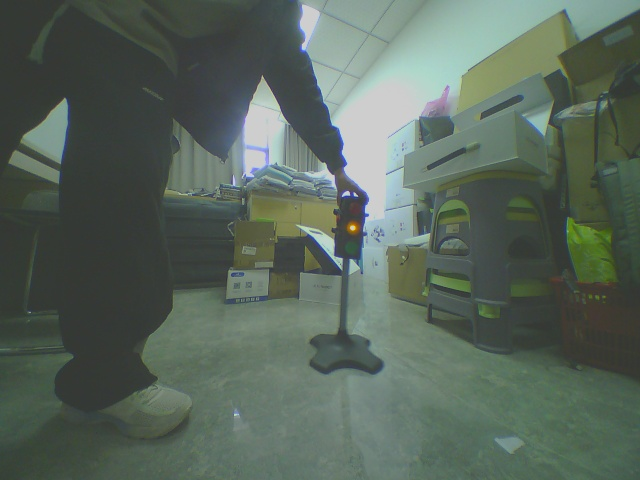Yellow: (320, 186, 389, 280)
